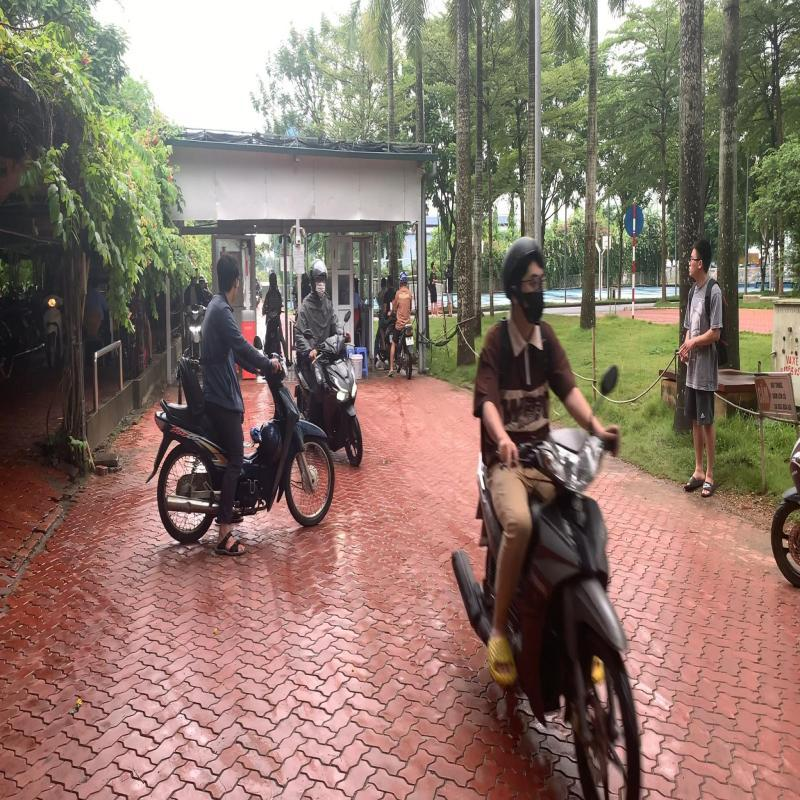nohelmet: (216, 252, 240, 304)
